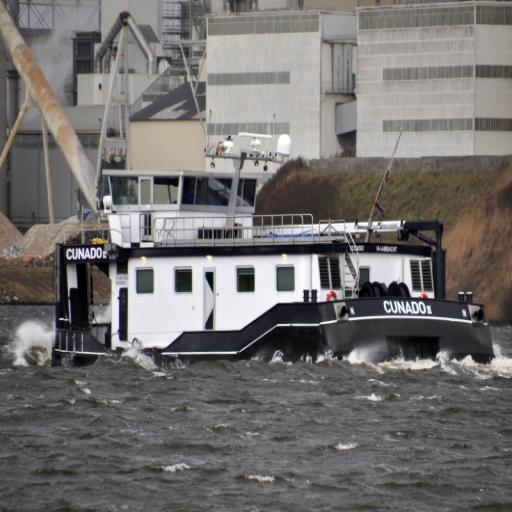tugboat: (47, 129, 500, 383)
